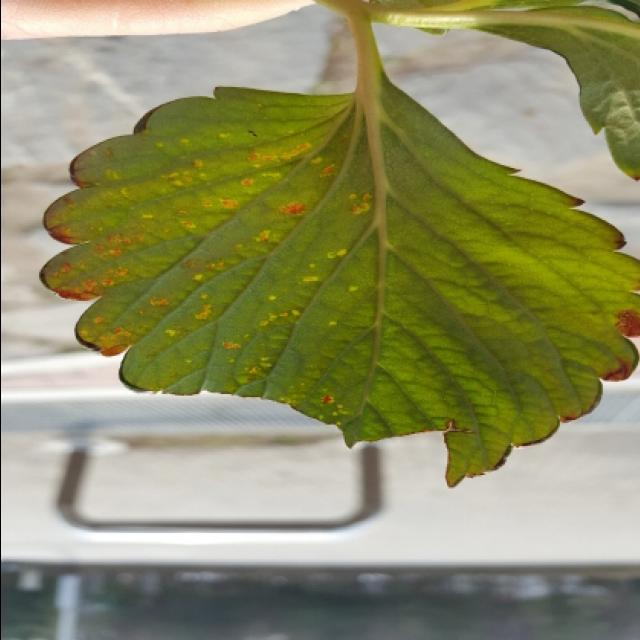Angular Leafspot: (39, 94, 374, 429)
